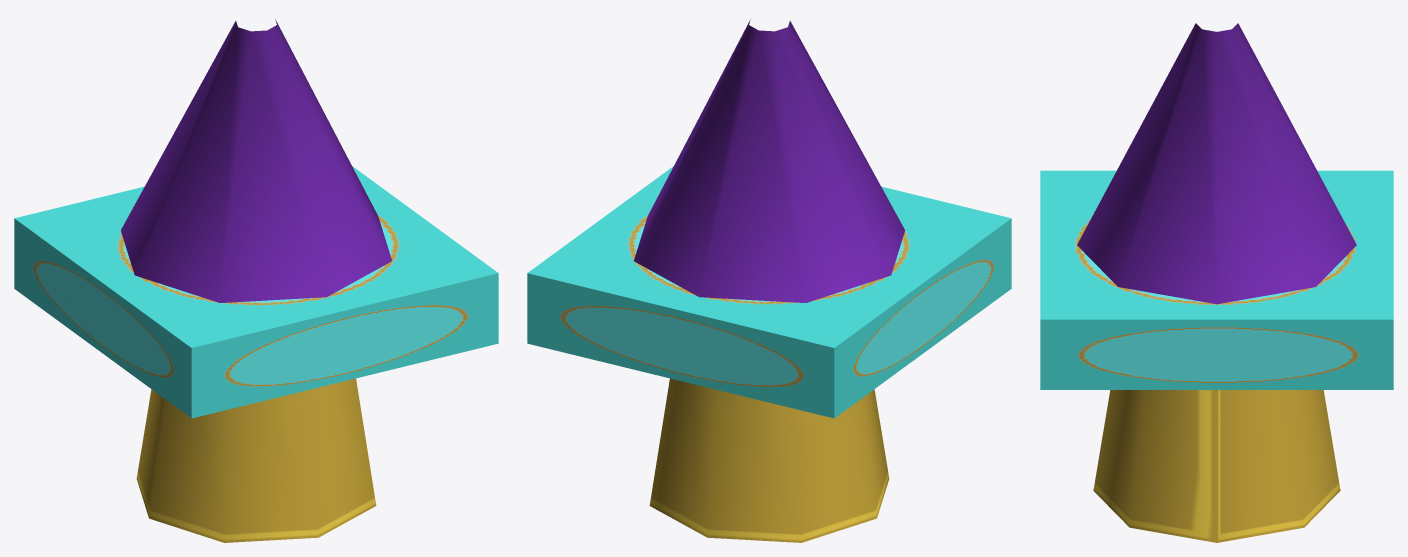
Rendered from ITEM_DREAM_EMBER.glb.
3 views of the same model, side by side, from view 1: azimuth 30°, elevation 25°; view 2: azimuth 150°, elevation 25°; view 3: azimuth 270°, elevation 25° (orthographic).
Parts seen in each view (by area): view 1: ITEM_DREAM_EMBER; view 2: ITEM_DREAM_EMBER; view 3: ITEM_DREAM_EMBER.
Part boxes in pixels (x1,y1,x2,y2): ITEM_DREAM_EMBER: (14,19,498,542); ITEM_DREAM_EMBER: (527,19,1011,542); ITEM_DREAM_EMBER: (1040,23,1393,542).
Size of the model in its own units: 0.26 by 0.38 by 0.26.
Materials: 1 (1 with a texture image).
